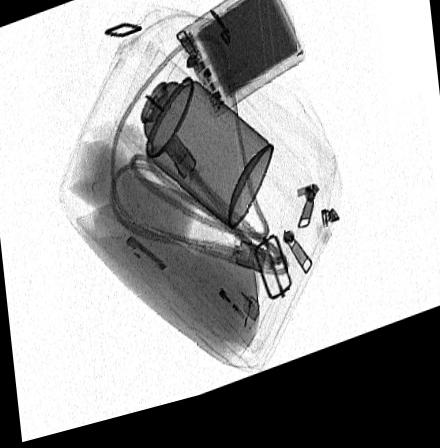Lighter: (189, 253, 261, 344)
Powerbank: (177, 0, 307, 129)
Sprayer: (113, 56, 274, 241)
